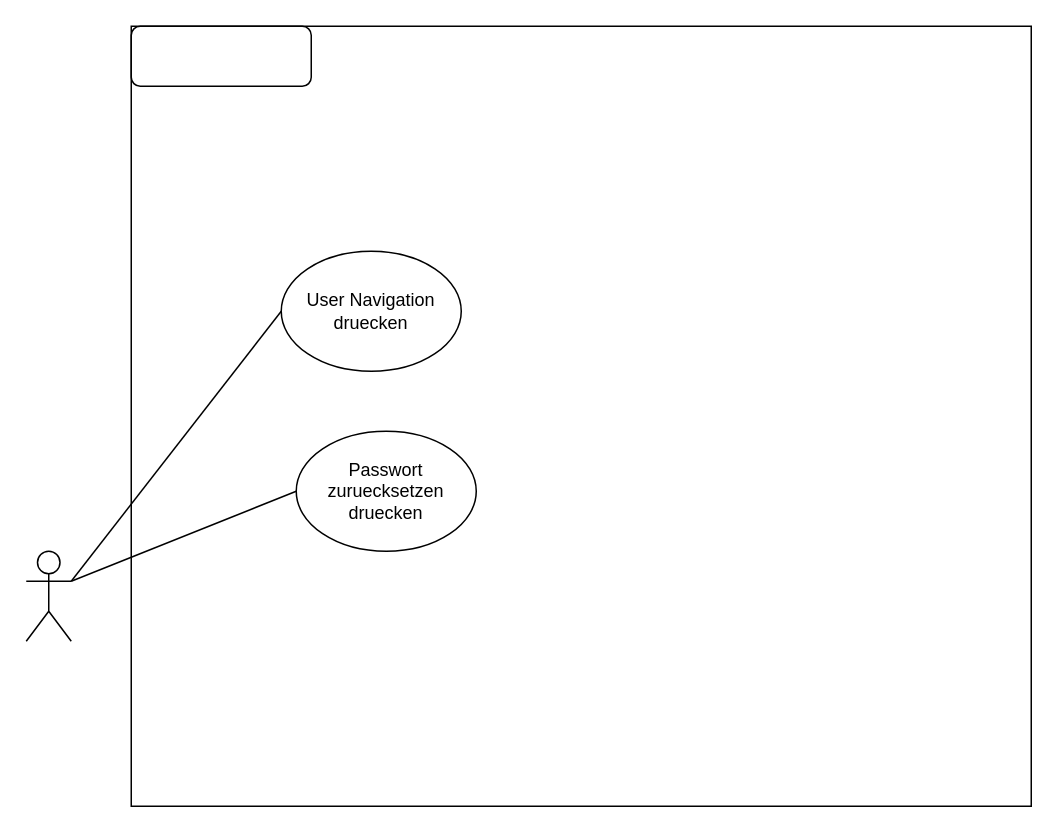
Some shapes in this 1058 by 833 pixel diagram are drawn without their labels. The shapes that lost their labels are listed below. From the top down, each one's centre as x and y in pixels, then its label:
At (x=220, y=55): "User: Konto Zuruecksetzen".
At (x=48, y=595): "User".
